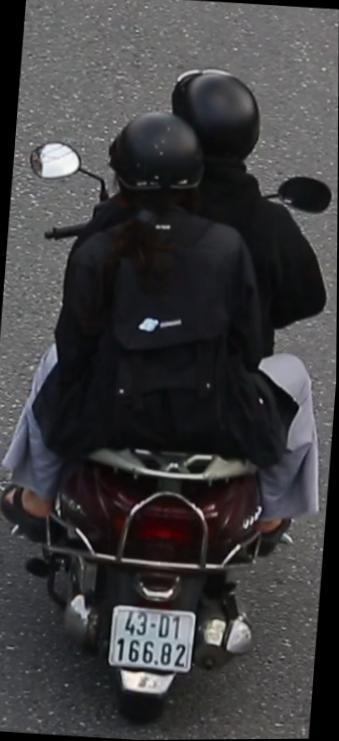LP: (108, 599, 198, 681)
helmet: (103, 97, 214, 235), (163, 55, 272, 177)
